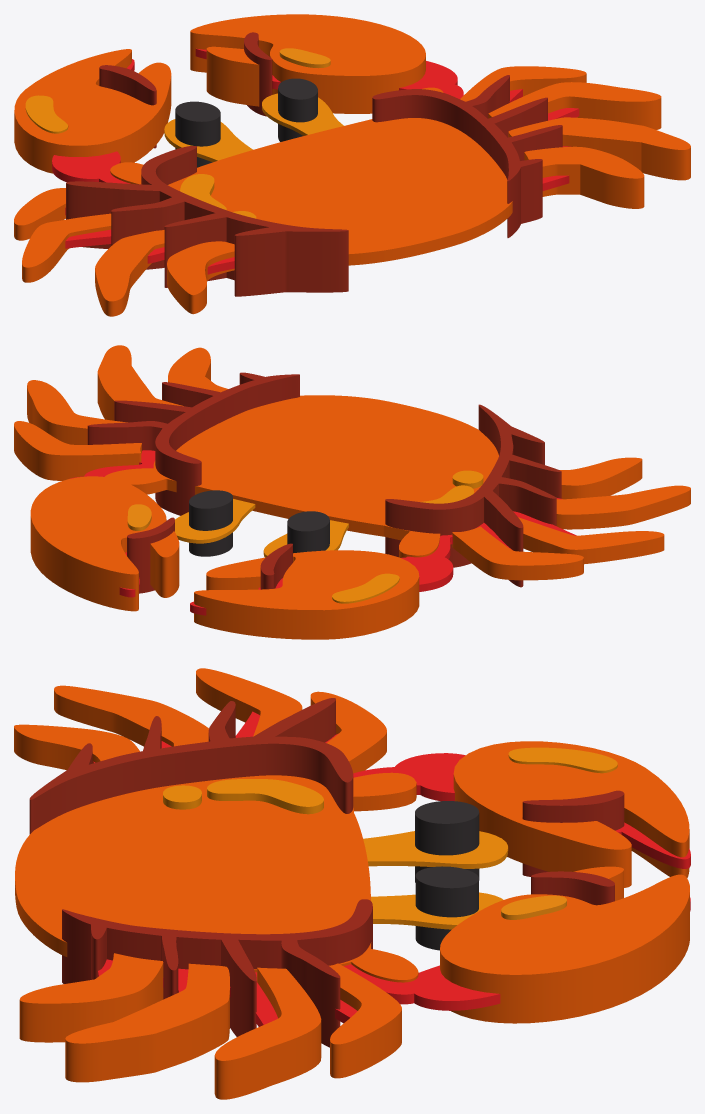
File: emoji_u1f980.glb
3 renders of one model, top to bottom at view 1: azimuth 30°, elevation 25°; view 2: azimuth 150°, elevation 25°; view 3: azimuth 270°, elevation 25°, orthographic. The views are drawn at different scales.
Parts seen in each view (by area): view 1: emoji_u1f980; view 2: emoji_u1f980; view 3: emoji_u1f980.
Part boxes in pixels (x1,y1,x2,y2): emoji_u1f980: (14,14,690,316); emoji_u1f980: (14,345,690,639); emoji_u1f980: (14,668,690,1099).
Size of the model in its own units: 0.0355 by 0.0032 by 0.0253.
